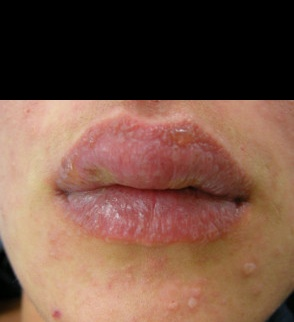SJS-TEN: (0, 99, 294, 322)
